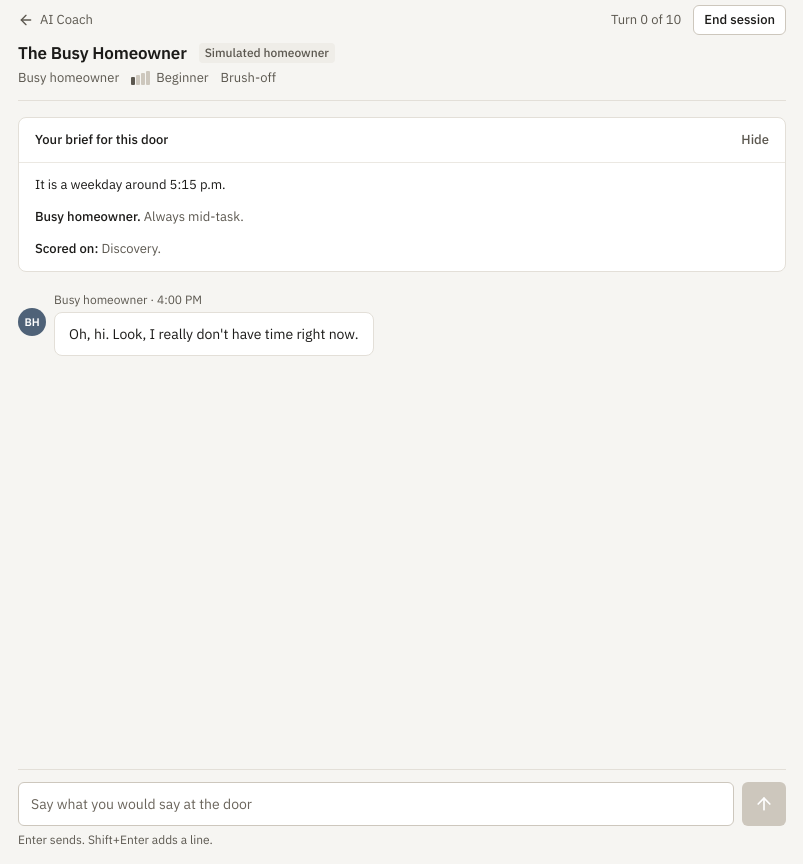
practice conversation › offers to fetch the reply when the homeowner could not answer, then asks only for the reply
The image size is (803, 864).
Type "I know you are short on time. Is there a better time today?" into the text box named "Your response to the homeowner". click: (376, 804)
box: 18,782 -> 734,826
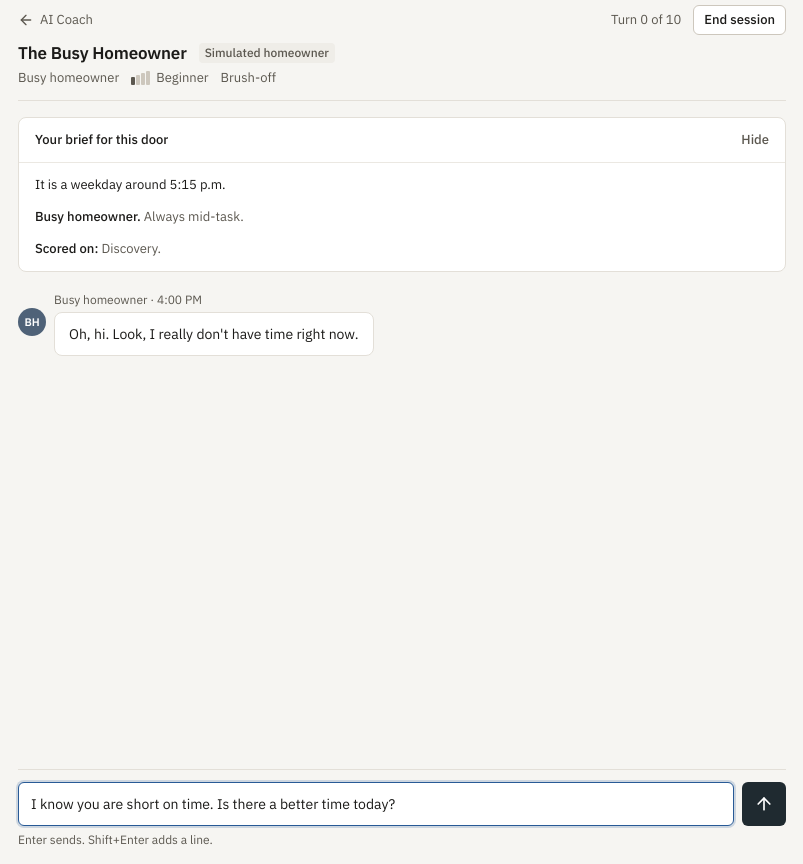
Click the button named "Send message". click: (764, 804)
box: 742,782 -> 786,826
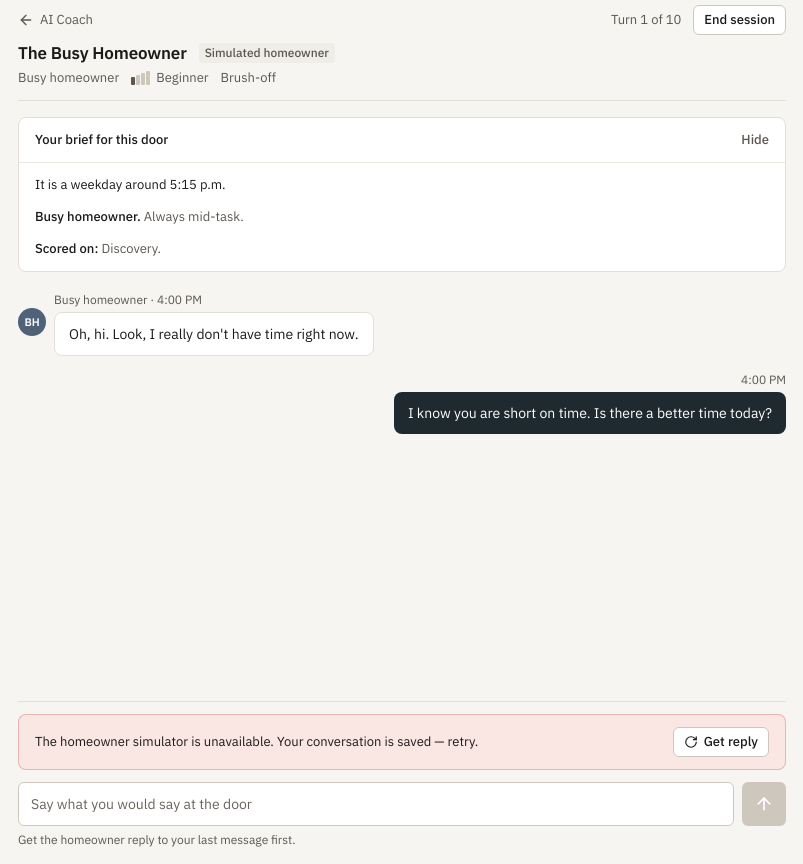
Now the message shows "Your conversation is saved", box 35,733 -> 478,750
Now the text "I know you are short on time. Is there a better time today?" is shown, box 394,392 -> 786,434
Click the button "Get reply". click: (721, 742)
box: 673,727 -> 769,757
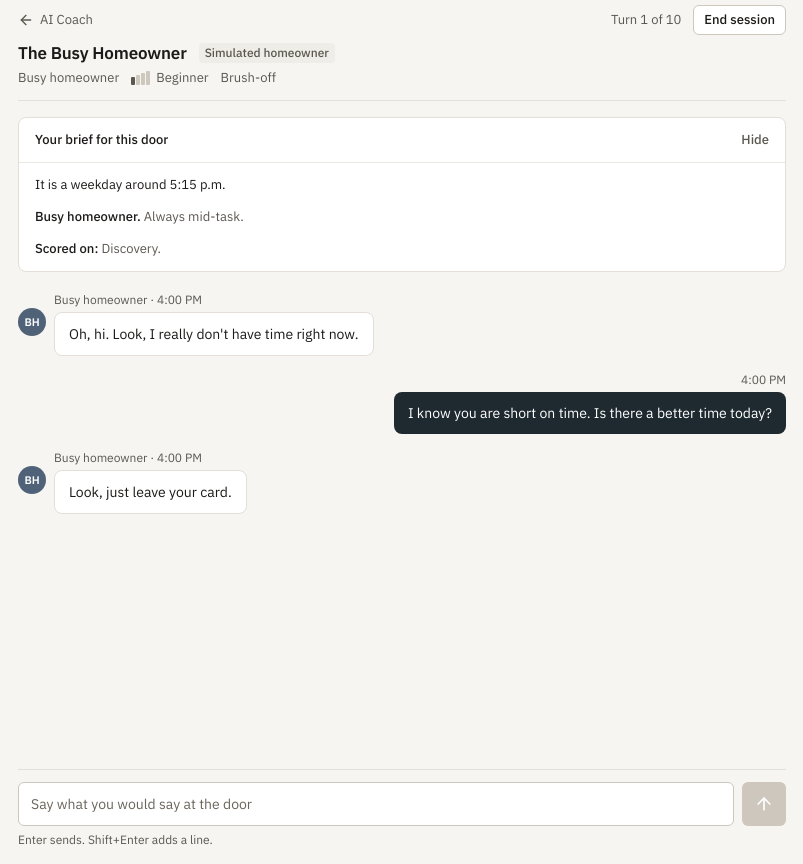
Now the text "Look, just leave your card." is shown, box 54,470 -> 247,514
Now the message "The homeowner simulator is unavailable. Your conversation is saved — retry. Get" is gone
